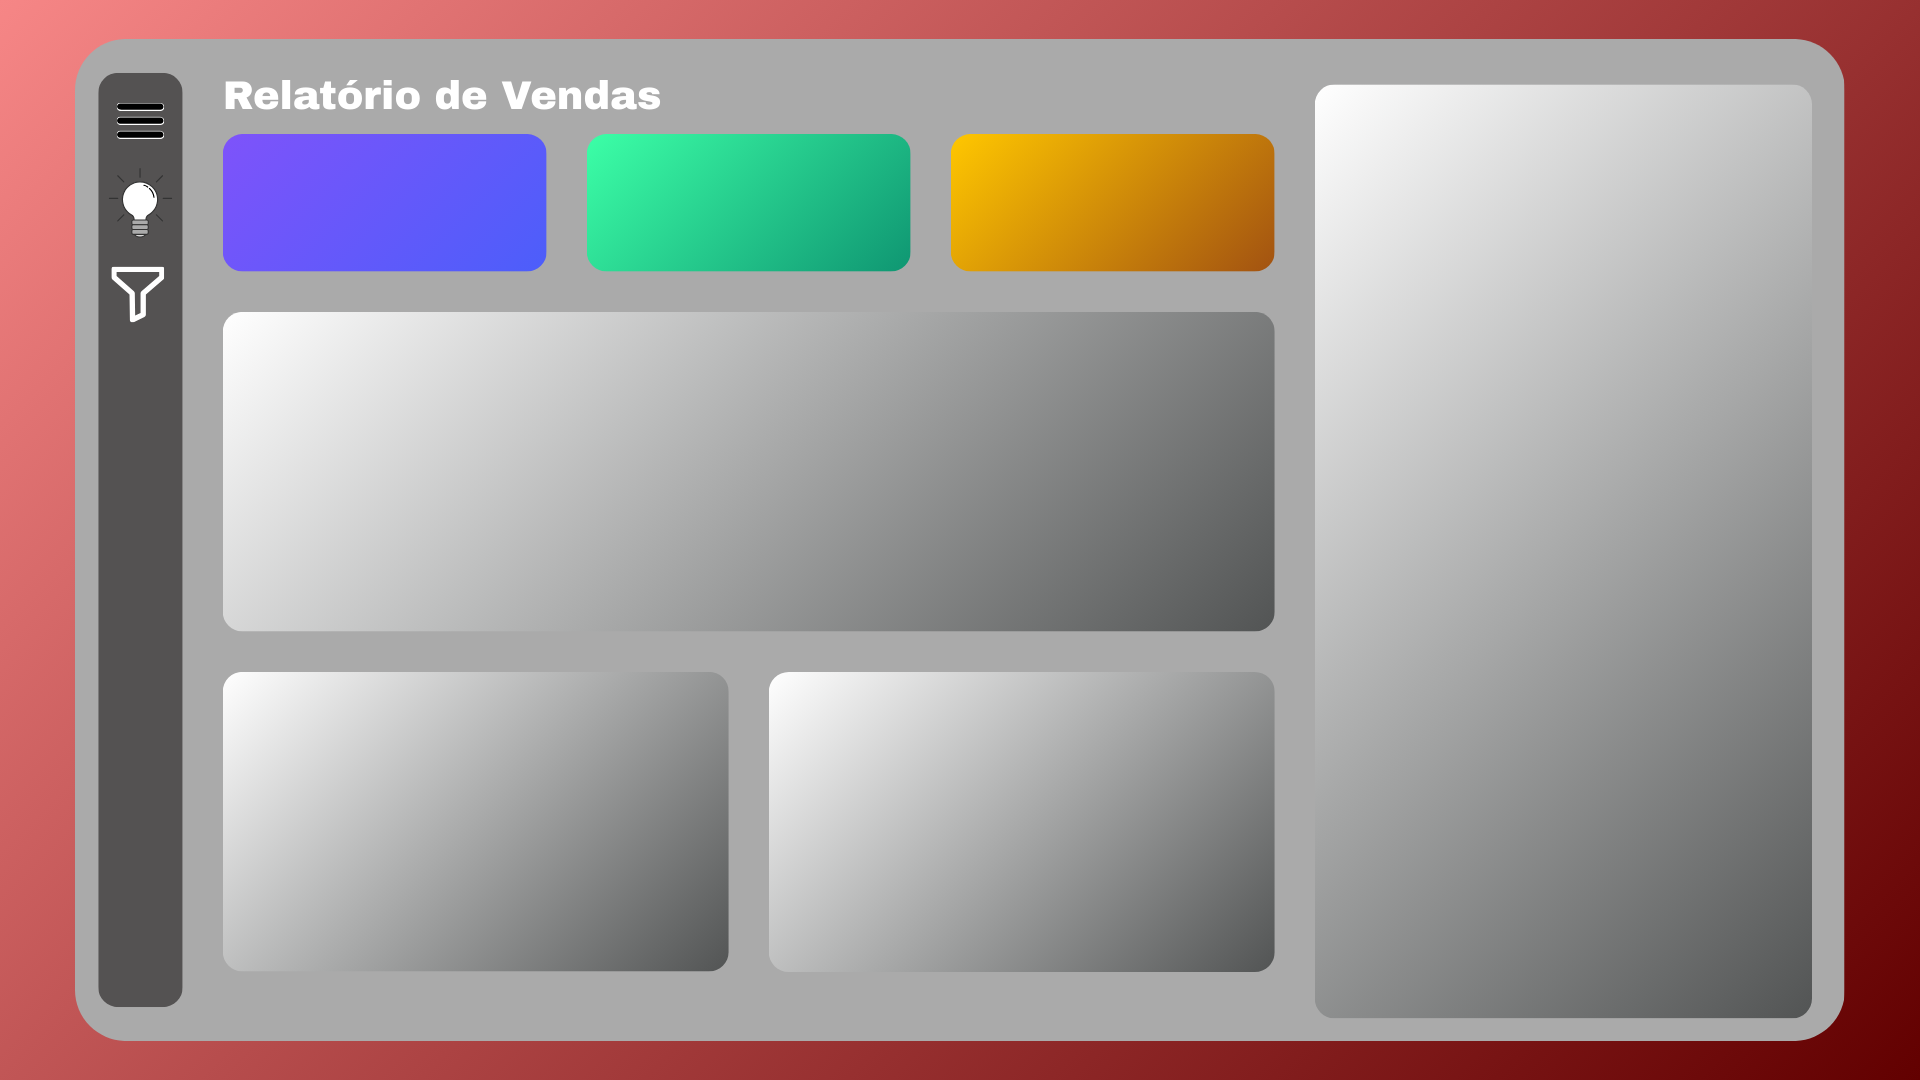

What the dashboard file says about the page in this screenshot:
{"tool":"powerbi","page":{"name":"RELATÓRIO CLARO","canvas":[1280,720],"ordinal":2},"visuals":[{"type":"card","fields":{"Values":["MEDIDAS.QTDE DE CLIENTES"]},"box":[151.1,83.6,211.6,97.8],"z":0},{"type":"card","fields":{"Values":["MEDIDAS.QTDE VENDAS"]},"box":[392.9,83.6,211.6,97.8],"z":1000},{"type":"card","fields":{"Values":["MEDIDAS.MÉDIA FATURAMENTO"]},"box":[632,83.6,219.6,97.8],"z":2000},{"type":"columnChart","title":" FATURAMENTO POR VENDEDOR","fields":{"Y":["MEDIDAS.FATURAMENTO"],"Category":["funcionarios.Nome_Vendedor"]},"box":[151.1,205.3,700.4,216.9],"z":3000},{"type":"columnChart","title":" FATURAMENTO POR ANO","fields":{"Y":["MEDIDAS.FATURAMENTO"],"Category":["CONSOLIDADA.Data_Venda.Variation.Hierarquia de datas.Ano"]},"box":[151.1,449.8,335.1,193.8],"z":4000},{"type":"barChart","title":" FATURAMENTO POR PRODUTO","fields":{"Category":["CONSOLIDADA.Peca_Vendida"],"Y":["MEDIDAS.FATURAMENTO"]},"box":[879.1,59.6,329.8,618.7],"z":5000},{"type":"lineChart","title":" FATURAMENTO POR ANO %","fields":{"Category":["CONSOLIDADA.Data_Venda.Variation.Hierarquia de datas.Ano"],"Y":["MEDIDAS.FATURAMENTO"]},"box":[516.4,449.8,335.1,193.8],"z":6000},{"type":"actionButton","box":[68.4,63.1,48.9,34.7],"z":6001},{"type":"actionButton","box":[68.4,112,48.9,52.4],"z":6002}]}

Visuals, with their boxes in screenshot pixels (x1, y1, x2, y2), scaled from the page's 1280x720 canvas onto the 1920x1080 screenshot:
card - MEDIDAS.QTDE DE CLIENTES: l=227, t=125, r=544, b=272
card - MEDIDAS.QTDE VENDAS: l=589, t=125, r=907, b=272
card - MEDIDAS.MÉDIA FATURAMENTO: l=948, t=125, r=1277, b=272
" FATURAMENTO POR VENDEDOR" columnChart: l=227, t=308, r=1277, b=633
" FATURAMENTO POR ANO" columnChart: l=227, t=675, r=729, b=965
" FATURAMENTO POR PRODUTO" barChart: l=1319, t=89, r=1813, b=1017
" FATURAMENTO POR ANO %" lineChart: l=775, t=675, r=1277, b=965
actionButton: l=103, t=95, r=176, b=147
actionButton: l=103, t=168, r=176, b=247
